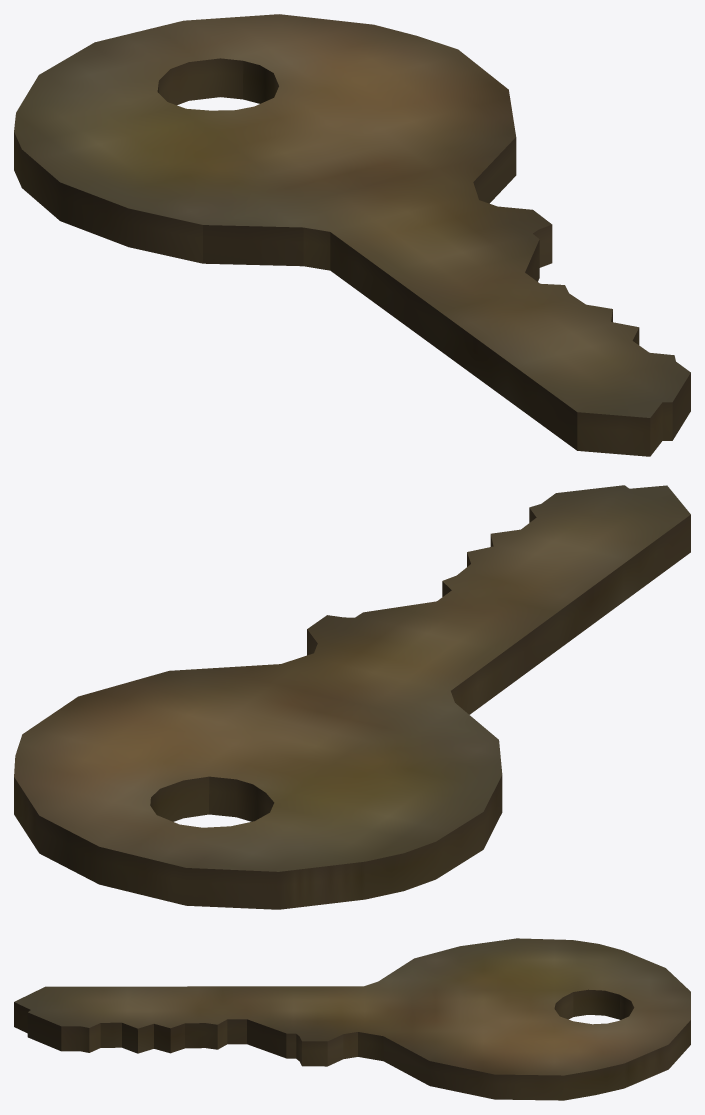
Rendered from key_mp_1.obj.
3 views of the same model, one above another, from view 1: azimuth 30°, elevation 25°; view 2: azimuth 150°, elevation 25°; view 3: azimuth 270°, elevation 25° (orthographic). The views are drawn at different scales.
Visible parts, largest first — view 1: key_mp_1; view 2: key_mp_1; view 3: key_mp_1.
Boxes of the visible parts, box(x1,y1,x2,y2) form: key_mp_1: box(14, 14, 690, 456); key_mp_1: box(14, 485, 690, 909); key_mp_1: box(14, 938, 690, 1100).
Bounding box in the file's own units: 0.0352 × 0.00301 × 0.0735.
